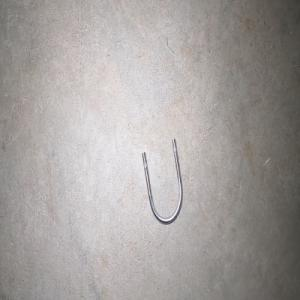ClampPart: (141, 137, 183, 225)
